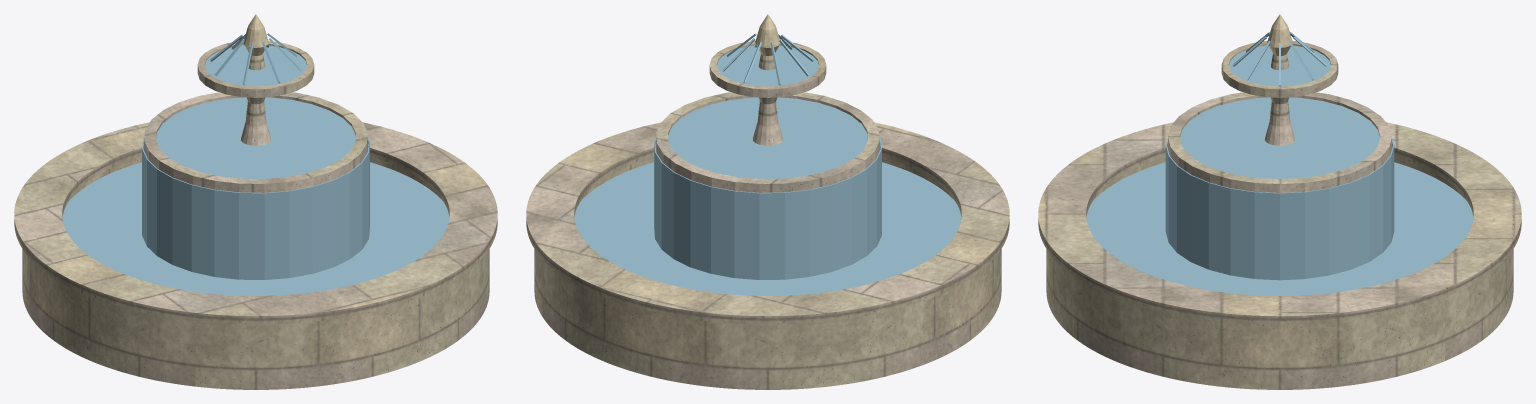
File: fountain.glb
3 views of the same model, side by side, from view 1: azimuth 30°, elevation 25°; view 2: azimuth 150°, elevation 25°; view 3: azimuth 270°, elevation 25° (orthographic).
Visible parts, largest first — view 1: fountain_stone_t, fountain_water; view 2: fountain_stone_t, fountain_water; view 3: fountain_stone_t, fountain_water.
Boxes of the visible parts, x1,y1,x2,y2 form: fountain_stone_t: (14,14,497,389); fountain_water: (62,33,449,295); fountain_stone_t: (526,14,1009,389); fountain_water: (574,33,961,295); fountain_stone_t: (1038,14,1521,389); fountain_water: (1086,32,1473,295).
Bounding box in the file's own units: 4.14 × 2.62 × 4.14.
2 materials, 1 textured.
